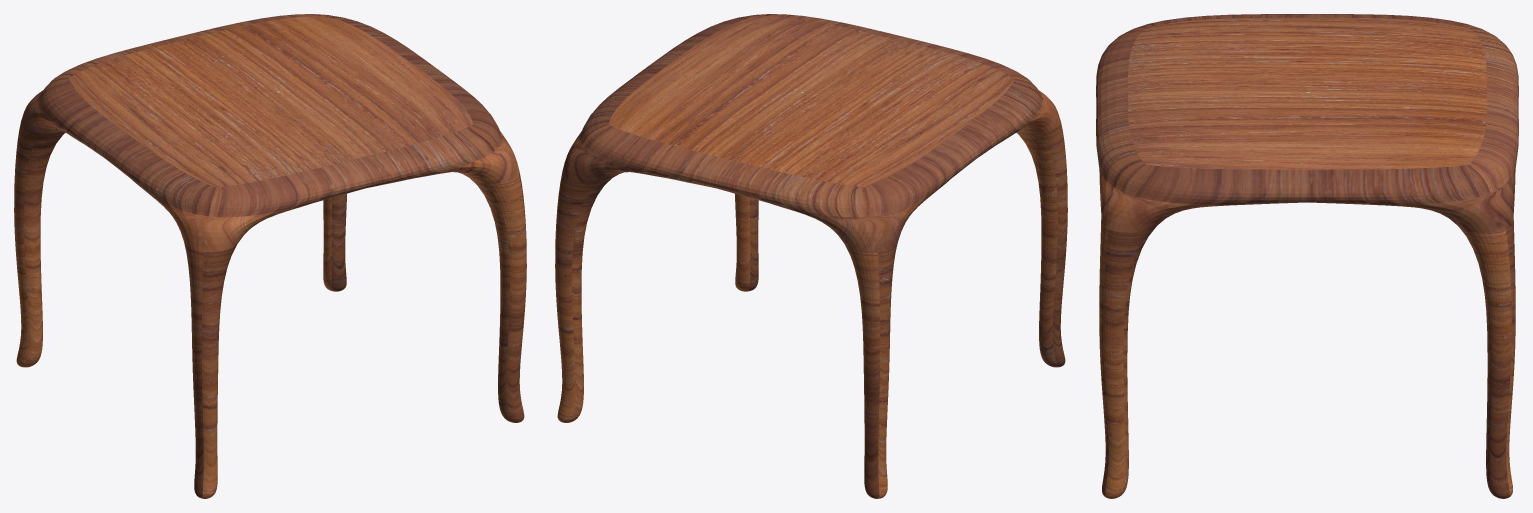
File: table.gltf
The picture shows the model from 3 angles, left to right: view 1: azimuth 30°, elevation 25°; view 2: azimuth 150°, elevation 25°; view 3: azimuth 270°, elevation 25°; orthographic projection. The views are drawn at different scales.
Visible parts, largest first — view 1: Cube; view 2: Cube; view 3: Cube.
Boxes of the visible parts, box(x1,y1,x2,y2) form: Cube: box(14, 14, 526, 498); Cube: box(555, 14, 1067, 498); Cube: box(1096, 14, 1518, 498).
Bounding box in the file's own units: 5.82 × 4.96 × 5.82.
1 material, 1 textured.
